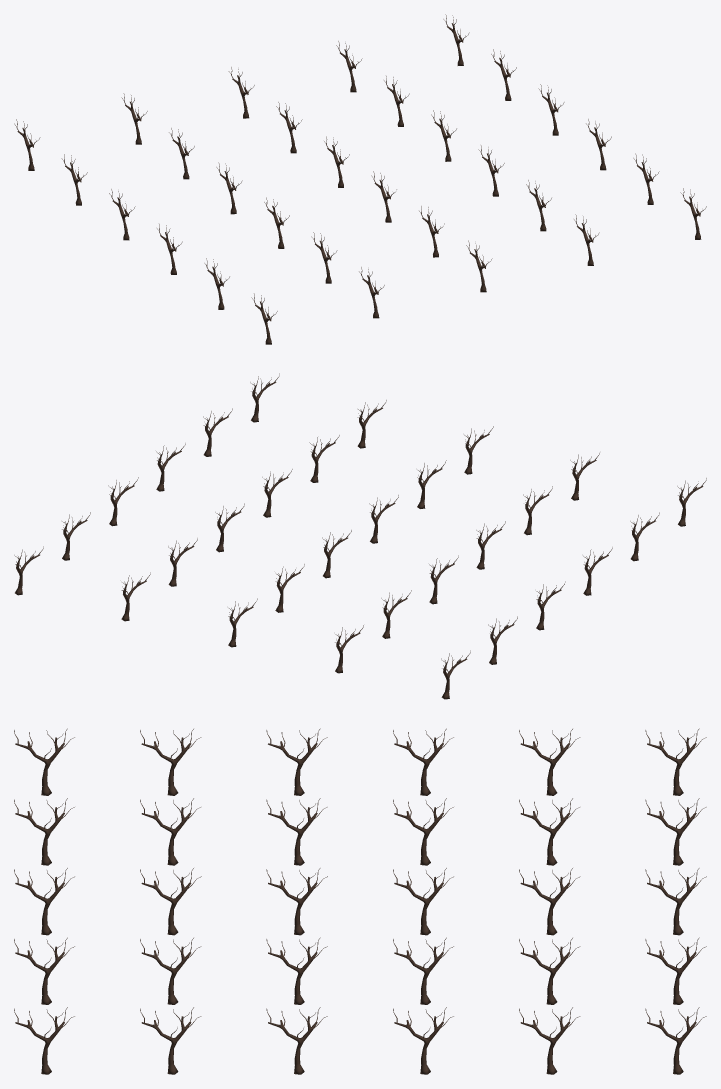
Rendered from Y1Winter.fbx.
The picture shows the model from 3 angles, top to bottom: view 1: azimuth 30°, elevation 25°; view 2: azimuth 150°, elevation 25°; view 3: azimuth 270°, elevation 25°; orthographic projection. The views are drawn at different scales.
Parts seen in each view (by area): view 1: Y2Winter.001; view 2: Y2Winter.001; view 3: Y2Winter.001.
Part boxes in pixels (x1,y1,x2,y2): Y2Winter.001: [14, 14, 706, 344]; Y2Winter.001: [14, 373, 706, 699]; Y2Winter.001: [14, 728, 706, 1074].
Bounding box in the file's own units: 301 × 30.07 × 305.
